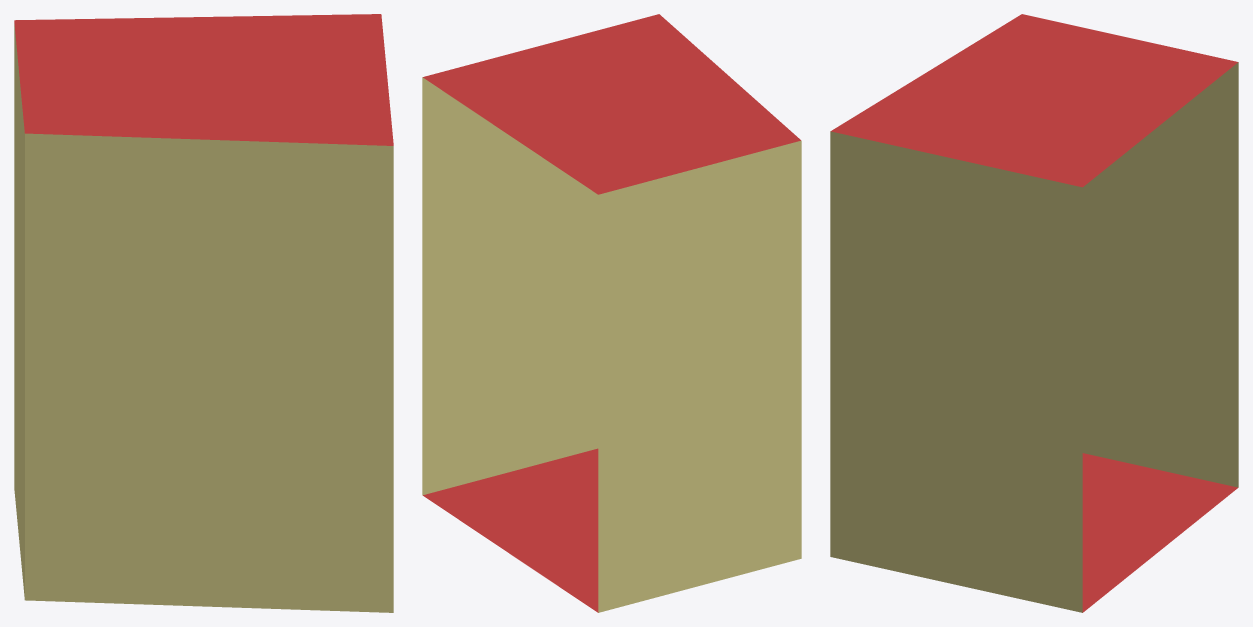
3 renders of one model, left to right at view 1: azimuth 30°, elevation 25°; view 2: azimuth 150°, elevation 25°; view 3: azimuth 270°, elevation 25°, orthographic. The views are drawn at different scales.
Size of the model in its own units: 5.26 by 5.23 by 6.02.
